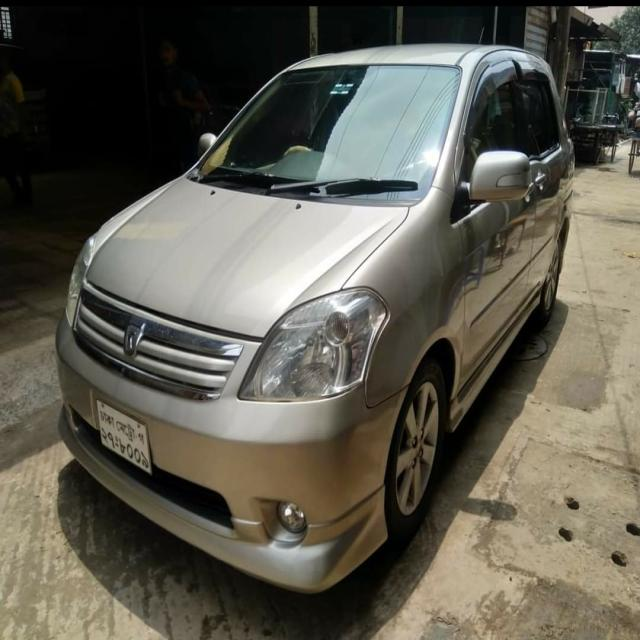silver: (51, 26, 583, 600)
